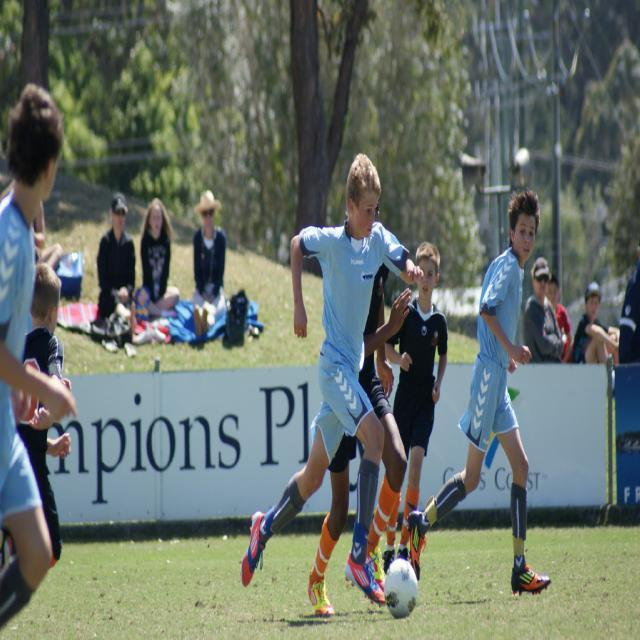football: (382, 558, 424, 615)
